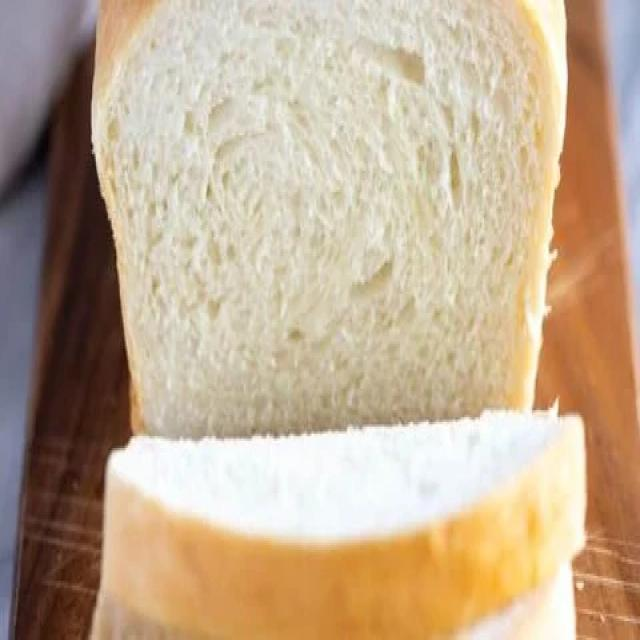Bread: (71, 5, 590, 427), (88, 374, 606, 640)
